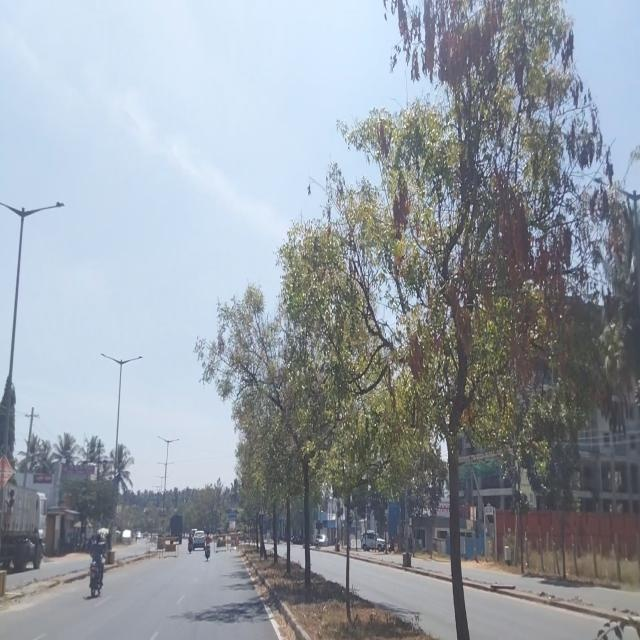bien_nguy_hiem: (258, 503, 265, 518)
